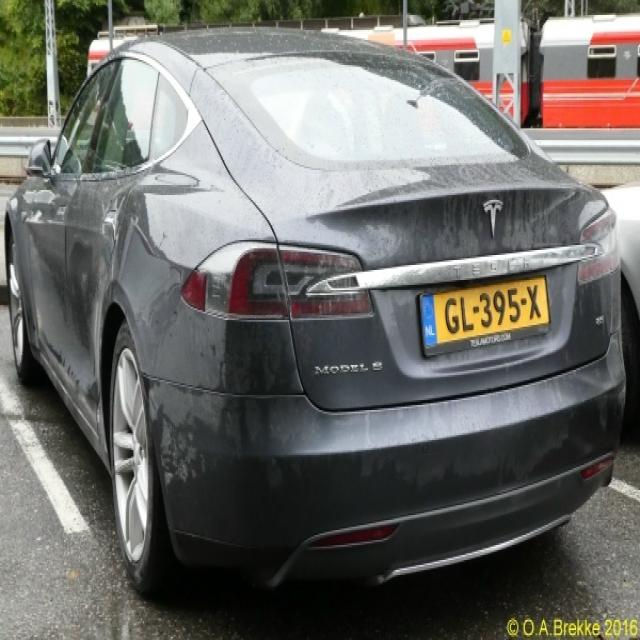number_plate: (417, 267, 550, 353)
